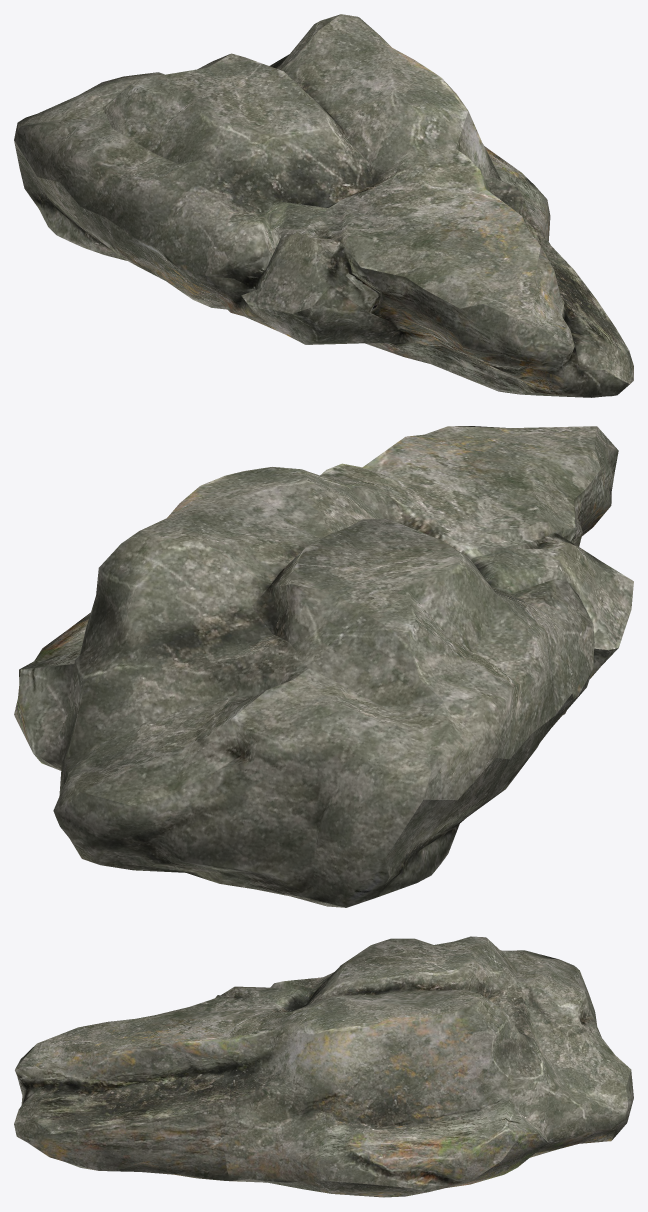
The model's file is rock_1.glb.
3 views of the same model, one above another, from view 1: azimuth 30°, elevation 25°; view 2: azimuth 150°, elevation 25°; view 3: azimuth 270°, elevation 25° (orthographic). The views are drawn at different scales.
Visible parts, largest first — view 1: Object_2; view 2: Object_2; view 3: Object_2.
Boxes of the visible parts, box(x1,y1,x2,y2) form: Object_2: box(14, 14, 633, 397); Object_2: box(14, 426, 633, 907); Object_2: box(14, 936, 633, 1197).
Bounding box in the file's own units: 6.96 × 3.5 × 11.5.
1 material, 1 textured.
